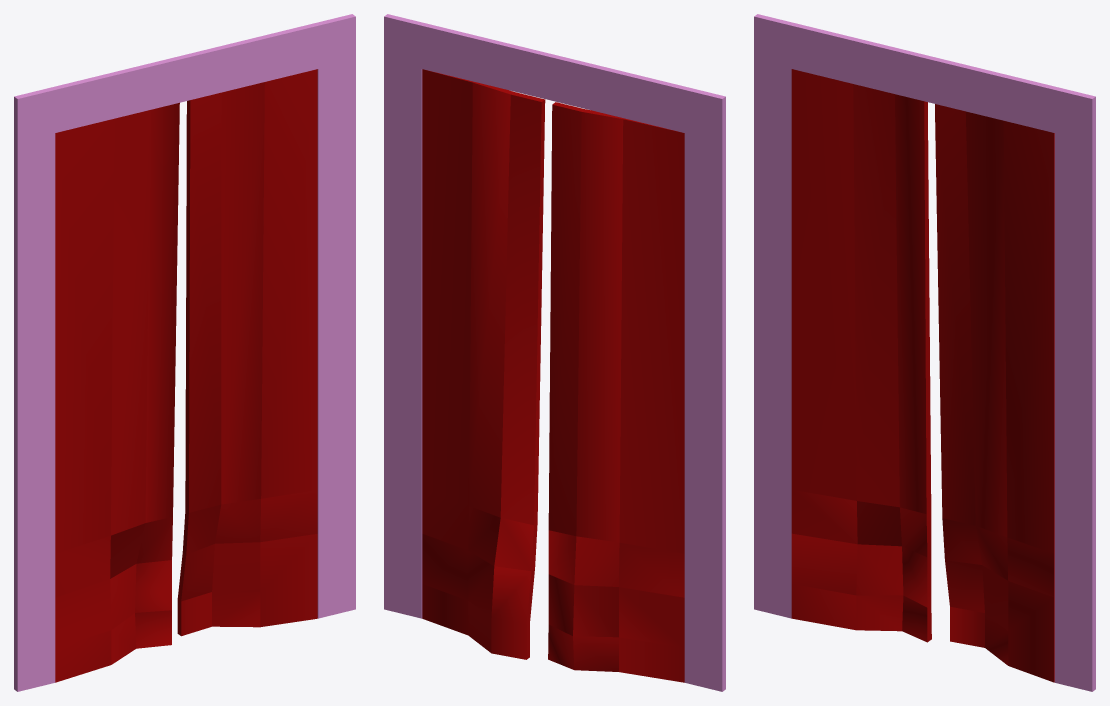
The model's file is FBX_PorteAscenseur.fbx.
3 renders of one model, left to right at view 1: azimuth 30°, elevation 25°; view 2: azimuth 150°, elevation 25°; view 3: azimuth 330°, elevation 25°, orthographic.
Visible parts, largest first — view 1: Cadre ascenseur; view 2: Cadre ascenseur; view 3: Cadre ascenseur.
Boxes of the visible parts, <box> form: Cadre ascenseur: <box>14,14,355,691</box>; Cadre ascenseur: <box>384,14,725,691</box>; Cadre ascenseur: <box>754,14,1095,691</box>.
Bounding box in the file's own units: 1.8 × 3.02 × 0.2009.
